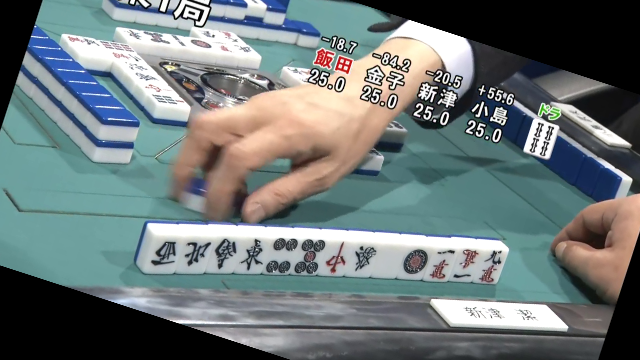Tehai: (131, 216, 515, 289)
